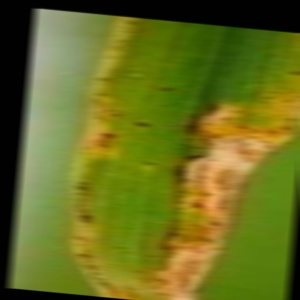Leaf_Blast: (84, 28, 278, 300)
